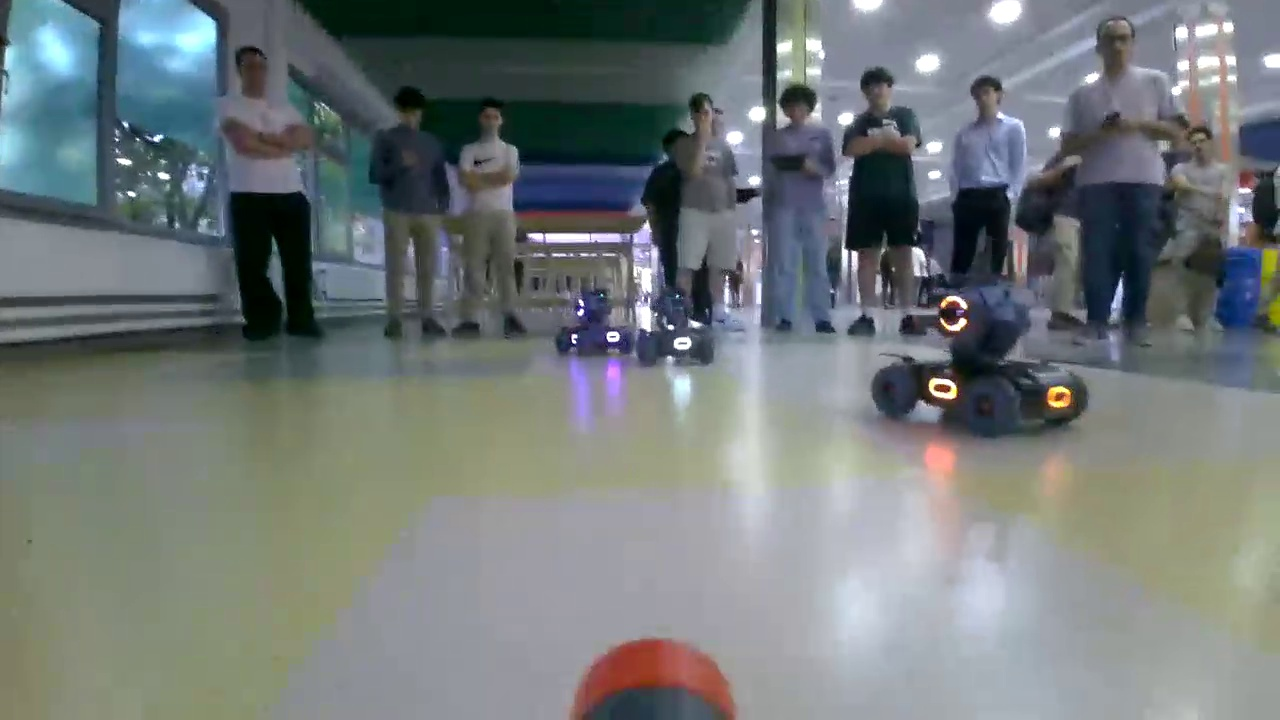robot: (870, 283, 1090, 439), (635, 288, 716, 368), (555, 291, 634, 356)
